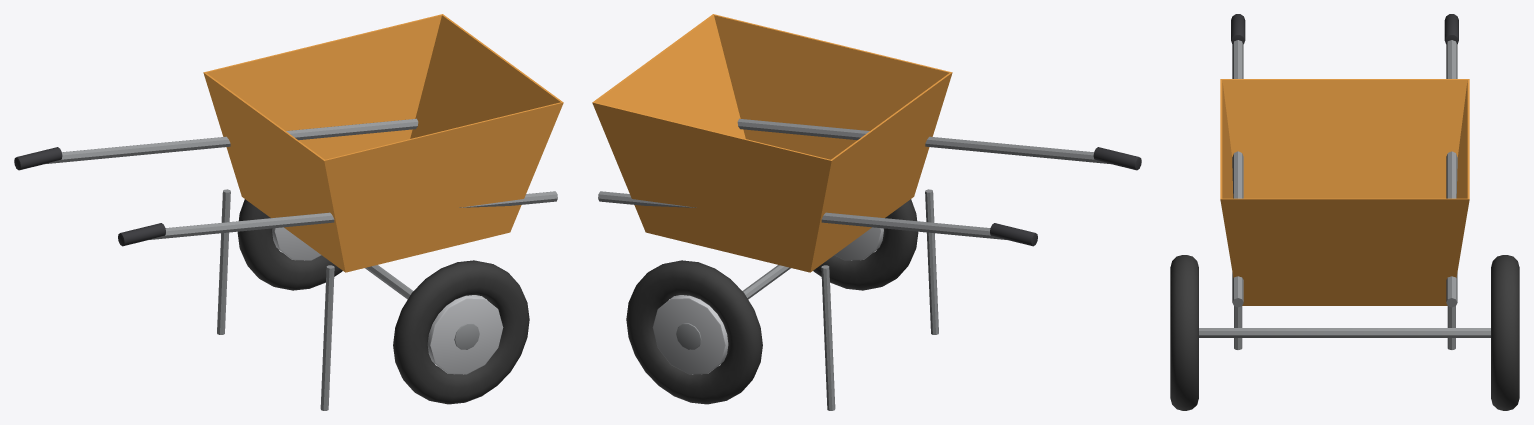
File: EQP-MAO-002.glb
3 views of the same model, side by side, from view 1: azimuth 30°, elevation 25°; view 2: azimuth 150°, elevation 25°; view 3: azimuth 270°, elevation 25° (orthographic). The views are drawn at different scales.
Visible parts, largest first — view 1: EQP-MAO-002_cacamba, EQP-MAO-002_roda-1_pneu, EQP-MAO-002_roda-1_aro, EQP-MAO-002_roda1_pneu, EQP-MAO-002_braco1, EQP-MAO-002_braco-1, EQP-MAO-002_pe-1, EQP-MAO-002_pe1, EQP-MAO-002_roda1_aro, EQP-MAO-002_manopla1, EQP-MAO-002_manopla-1, EQP-MAO-002_eixo (+1 smaller); view 2: EQP-MAO-002_cacamba, EQP-MAO-002_roda1_pneu, EQP-MAO-002_roda1_aro, EQP-MAO-002_roda-1_pneu, EQP-MAO-002_braco-1, EQP-MAO-002_braco1, EQP-MAO-002_pe1, EQP-MAO-002_pe-1, EQP-MAO-002_roda-1_aro, EQP-MAO-002_manopla-1, EQP-MAO-002_manopla1, EQP-MAO-002_eixo (+1 smaller); view 3: EQP-MAO-002_cacamba, EQP-MAO-002_roda1_pneu, EQP-MAO-002_roda-1_pneu, EQP-MAO-002_eixo, EQP-MAO-002_braco-1, EQP-MAO-002_braco1, EQP-MAO-002_manopla1, EQP-MAO-002_manopla-1.
Boxes of the visible parts, bbox=[...] form: EQP-MAO-002_cacamba: bbox=[203, 14, 563, 272]; EQP-MAO-002_roda-1_pneu: bbox=[393, 260, 529, 404]; EQP-MAO-002_roda-1_aro: bbox=[427, 295, 503, 374]; EQP-MAO-002_roda1_pneu: bbox=[237, 199, 342, 290]; EQP-MAO-002_braco1: bbox=[43, 118, 418, 164]; EQP-MAO-002_braco-1: bbox=[147, 191, 557, 240]; EQP-MAO-002_pe-1: bbox=[320, 265, 334, 410]; EQP-MAO-002_pe1: bbox=[217, 189, 230, 334]; EQP-MAO-002_roda1_aro: bbox=[272, 227, 321, 260]; EQP-MAO-002_manopla1: bbox=[14, 147, 62, 170]; EQP-MAO-002_manopla-1: bbox=[118, 223, 165, 246]; EQP-MAO-002_eixo: bbox=[365, 265, 413, 299]; EQP-MAO-002_cacamba: bbox=[592, 14, 952, 272]; EQP-MAO-002_roda1_pneu: bbox=[626, 260, 762, 404]; EQP-MAO-002_roda1_aro: bbox=[652, 295, 728, 374]; EQP-MAO-002_roda-1_pneu: bbox=[813, 199, 918, 290]; EQP-MAO-002_braco-1: bbox=[737, 118, 1112, 164]; EQP-MAO-002_braco1: bbox=[598, 191, 1008, 240]; EQP-MAO-002_pe1: bbox=[821, 265, 835, 410]; EQP-MAO-002_pe-1: bbox=[925, 189, 938, 334]; EQP-MAO-002_roda-1_aro: bbox=[834, 227, 883, 260]; EQP-MAO-002_manopla-1: bbox=[1093, 147, 1141, 170]; EQP-MAO-002_manopla1: bbox=[990, 223, 1037, 246]; EQP-MAO-002_eixo: bbox=[742, 265, 790, 299]; EQP-MAO-002_cacamba: bbox=[1220, 79, 1469, 305]; EQP-MAO-002_roda1_pneu: bbox=[1491, 255, 1519, 410]; EQP-MAO-002_roda-1_pneu: bbox=[1170, 255, 1198, 410]; EQP-MAO-002_eixo: bbox=[1199, 328, 1490, 337]; EQP-MAO-002_braco-1: bbox=[1232, 40, 1243, 307]; EQP-MAO-002_braco1: bbox=[1446, 40, 1457, 307]; EQP-MAO-002_manopla1: bbox=[1444, 14, 1458, 44]; EQP-MAO-002_manopla-1: bbox=[1231, 14, 1245, 44].
Size of the model in its own units: 1.45 by 0.8206 by 0.98.
